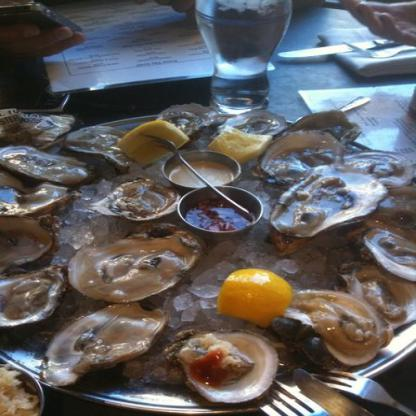oyster: (32, 302, 164, 388), (65, 221, 205, 294), (171, 330, 280, 413), (280, 288, 381, 370), (268, 169, 377, 236), (98, 174, 172, 227), (0, 146, 86, 184)
